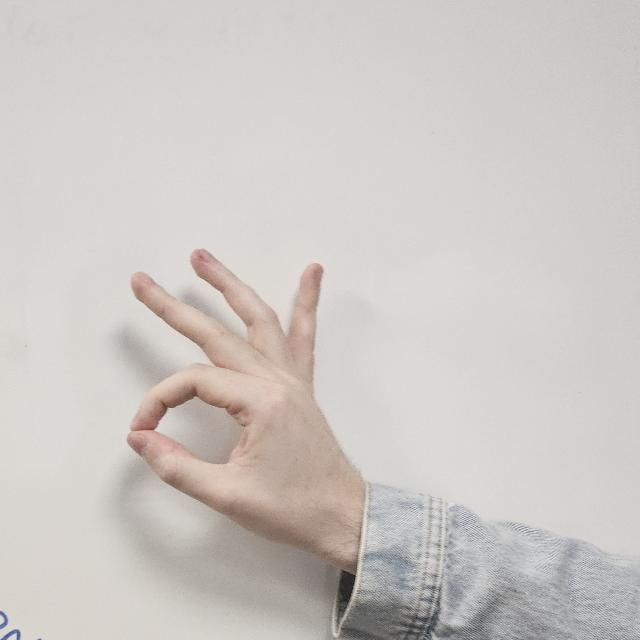Bolinha: (112, 246, 368, 580)
